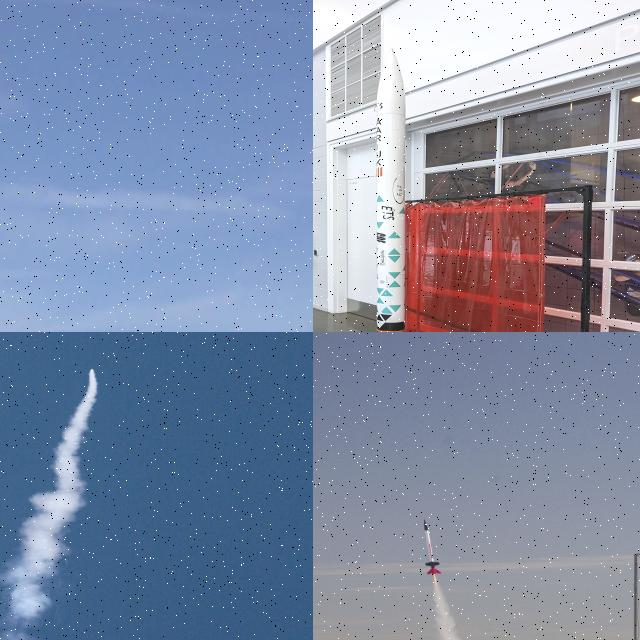Rocket: (377, 47, 406, 332), (423, 518, 442, 574), (90, 367, 94, 370)
